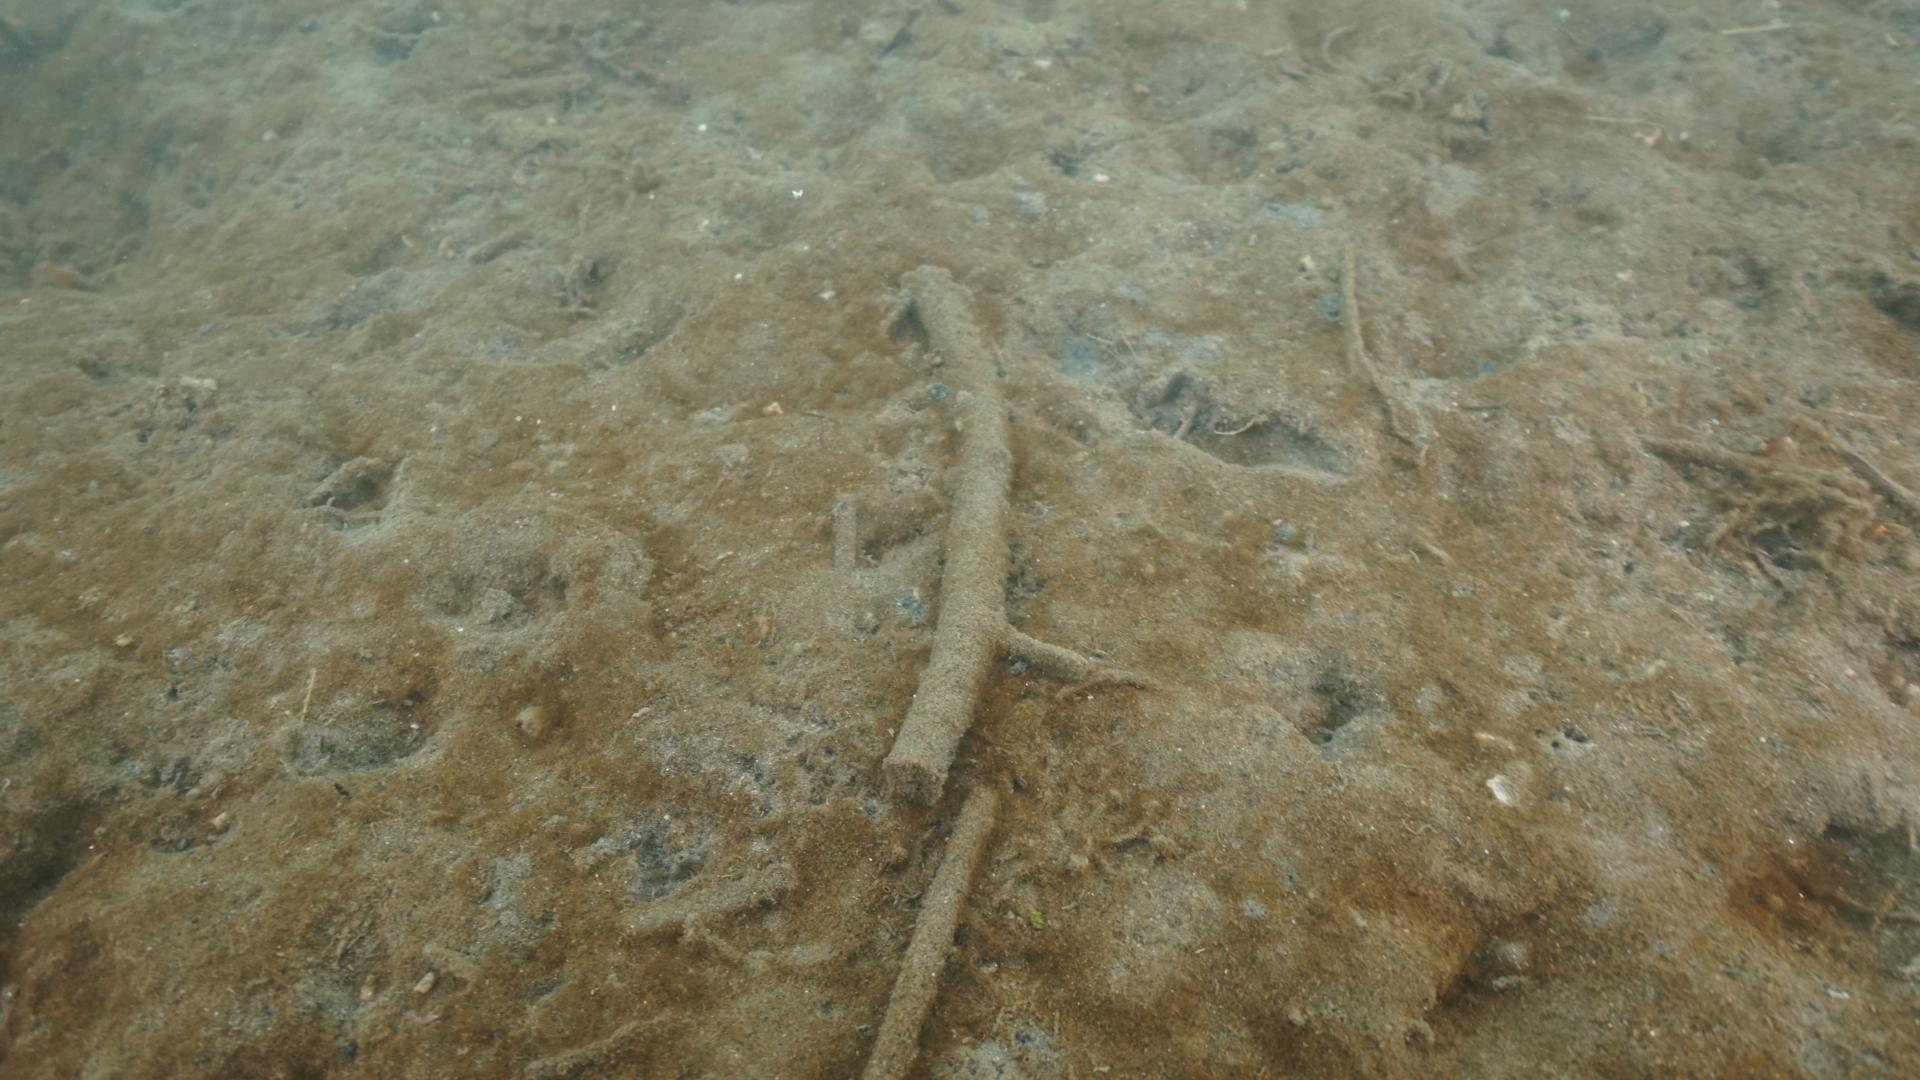wood: (881, 262, 1093, 807), (862, 785, 1000, 1076)
